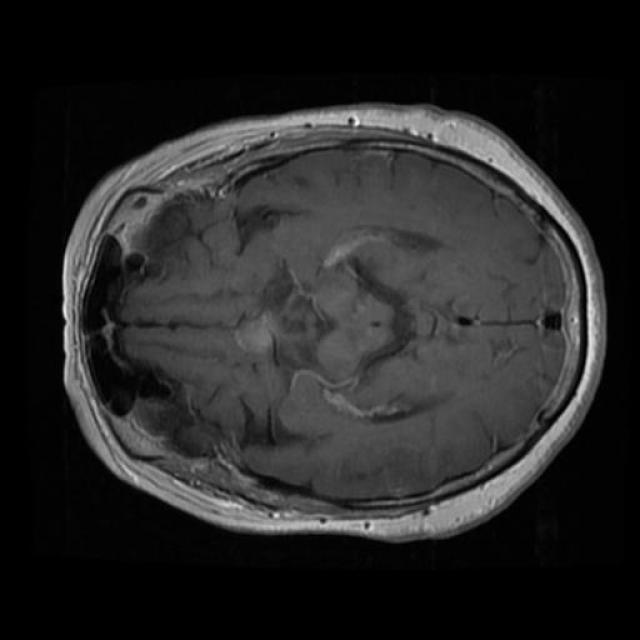Pituitary: (236, 313, 276, 358)
